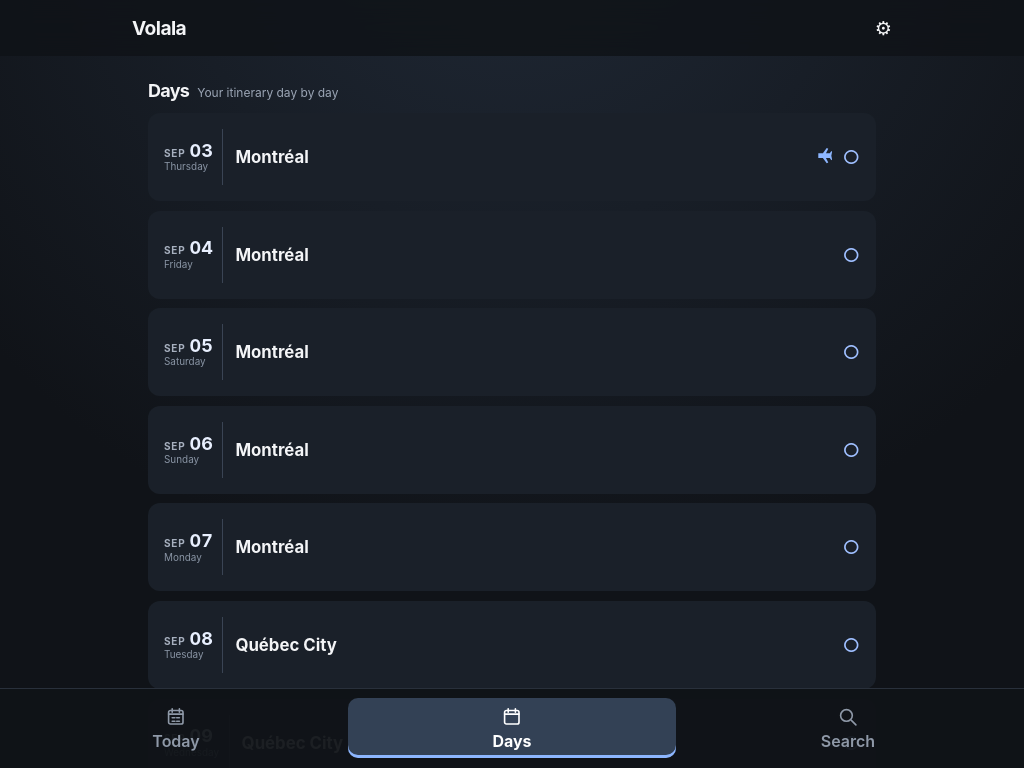
Test: day item presentation › supports browser-style back navigation through the application routes
Click the link "SEP 05 Saturday Montréal ○". click: [194, 352]
box: [148,308,876,396]
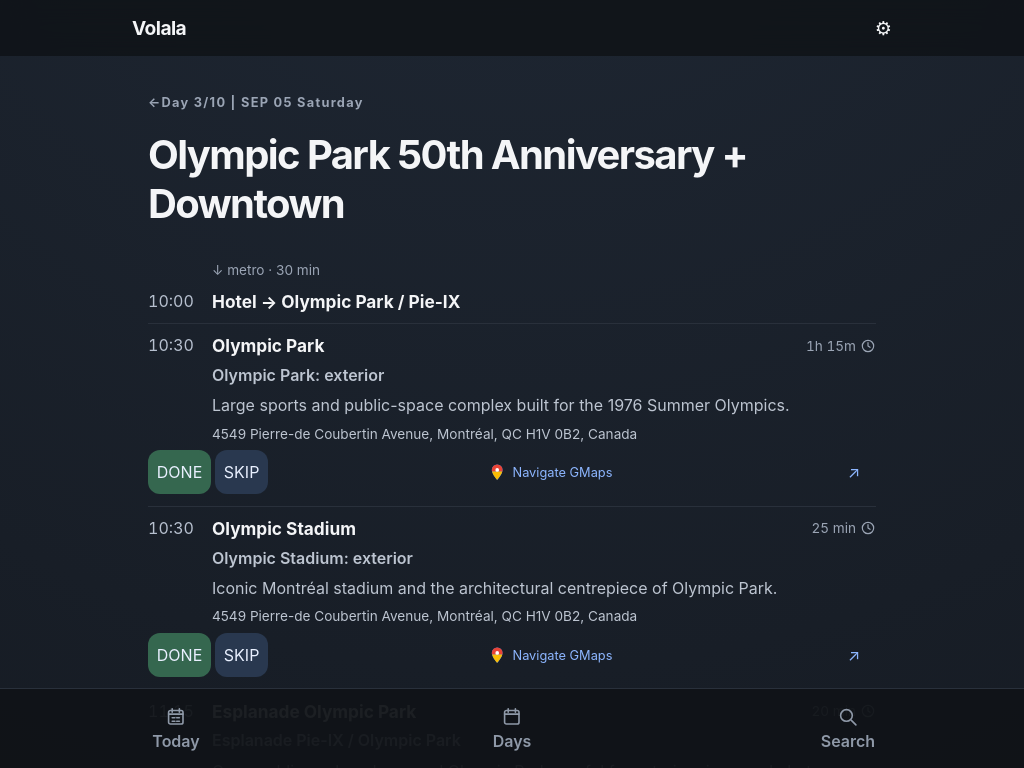
Result: the heading "Olympic Park 50th Anniversary + Downtown" is shown at [148,130,747,228]
Click the link named "Settings". click: [883, 28]
box: [875,16,892,40]
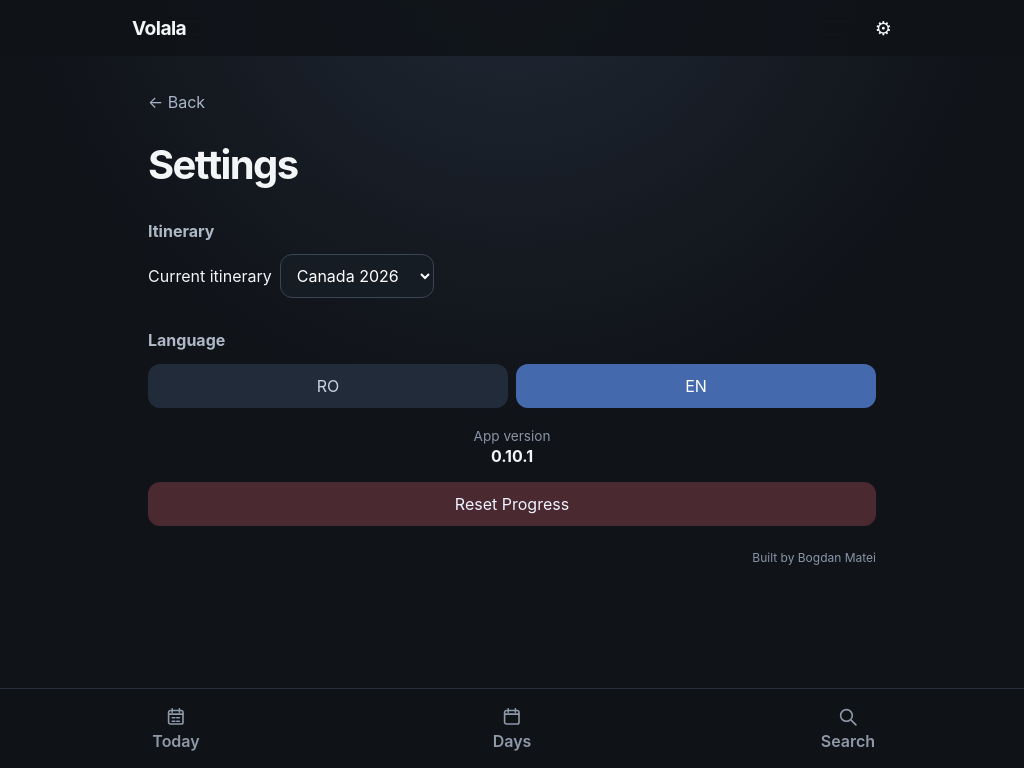
Click the button "← Back". click: [185, 102]
box: [148,80,221,124]
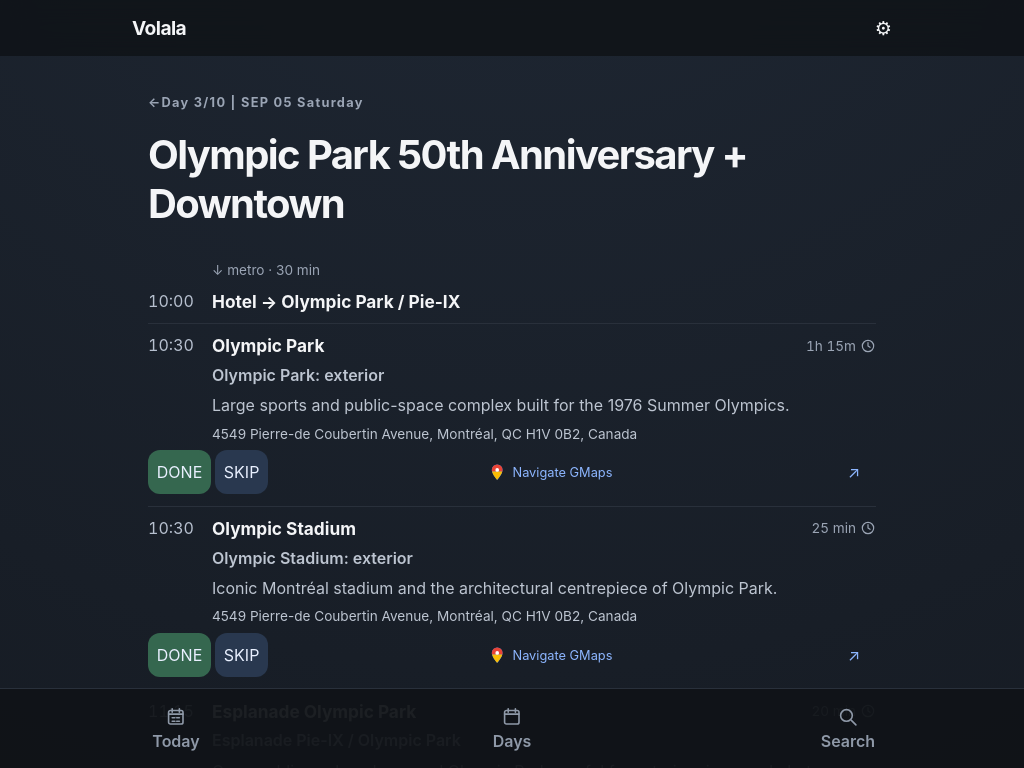
Result: the heading "Olympic Park 50th Anniversary + Downtown" is shown at [148,130,747,228]
